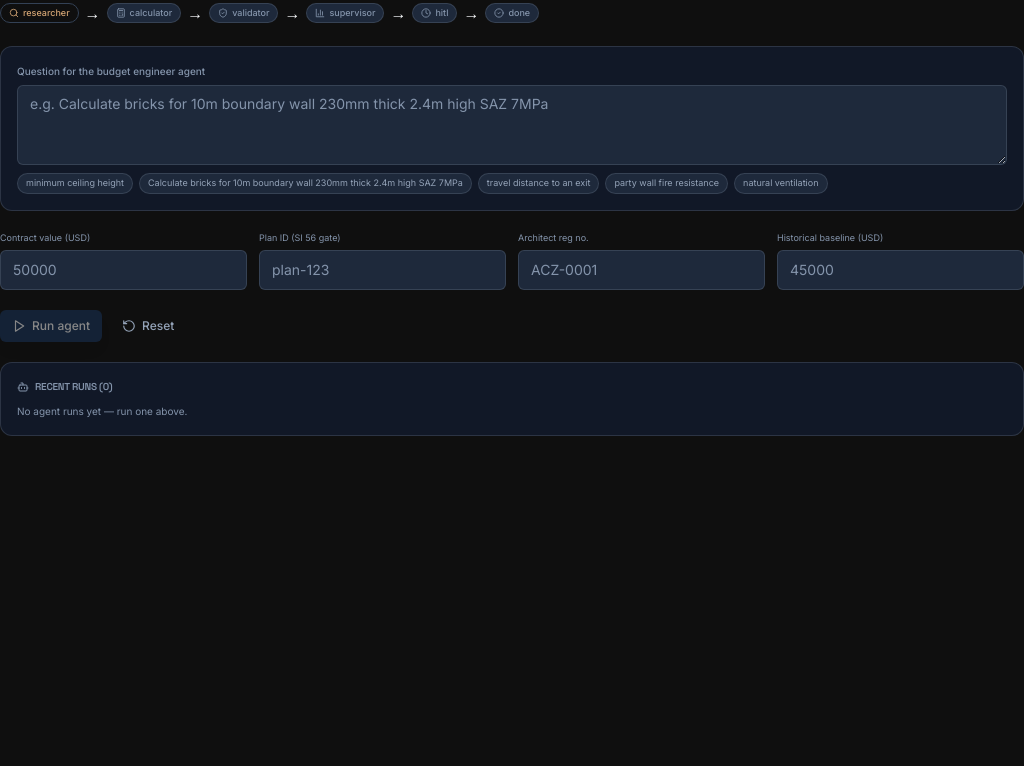
Scenario: AgentRunnerPanel › runs the agent and renders the completed result
Replace the text in the text box with test id "agent-query" with "party wall fire resistance" at (512, 125), box [17,85,1007,165]
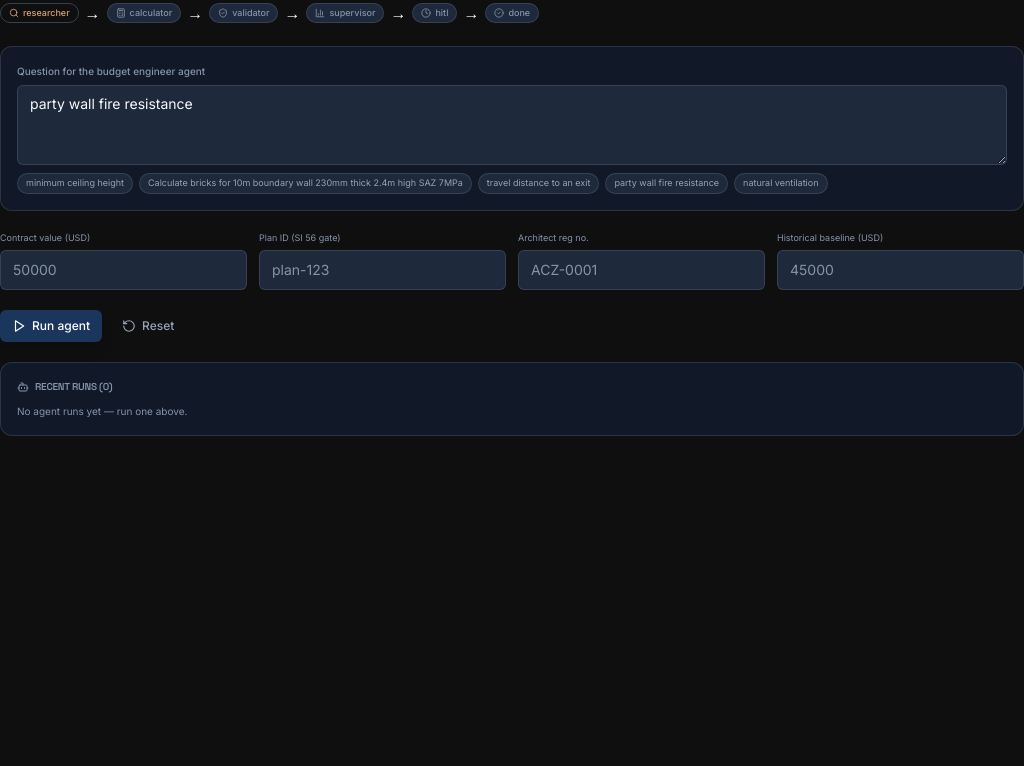
Click the button "Run agent" at (51, 326), box [0,310,102,342]
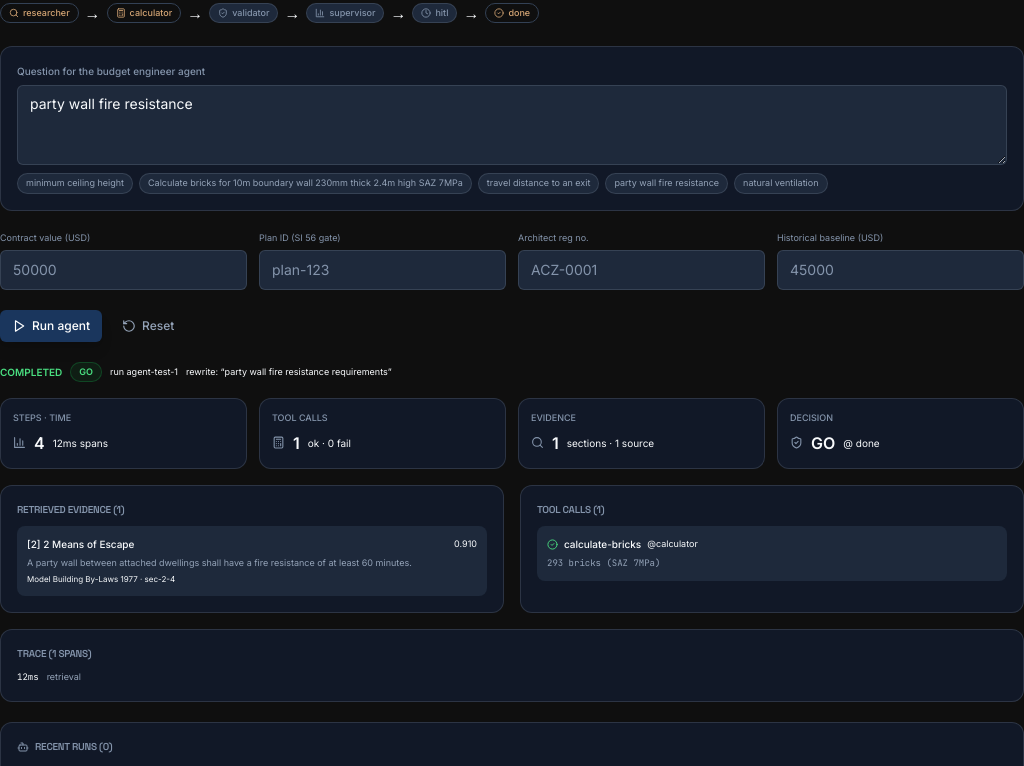
Expected: the element with test id "agent-result" is shown, [0,362,1023,702]
Expected: the text with test id "agent-status" reads "completed", [0,366,62,378]
Expected: the text with test id "agent-decision" reads "GO", [79,366,93,376]
